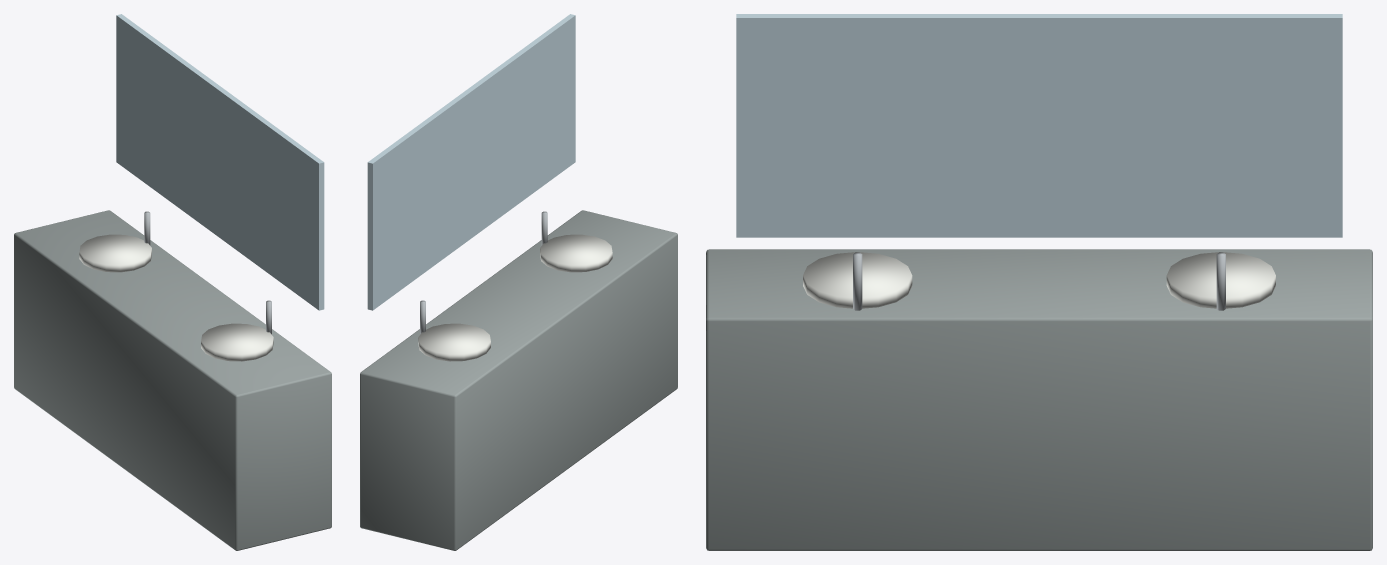
File: sink_counter.gltf
3 views of the same model, side by side, from view 1: azimuth 30°, elevation 25°; view 2: azimuth 150°, elevation 25°; view 3: azimuth 270°, elevation 25° (orthographic). The views are drawn at different scales.
Parts seen in each view (by area): view 1: sink_counter_mesh; view 2: sink_counter_mesh; view 3: sink_counter_mesh.
Part boxes in pixels (x1,y1,x2,y2): sink_counter_mesh: (14, 14, 331, 550); sink_counter_mesh: (360, 14, 677, 550); sink_counter_mesh: (706, 14, 1372, 550).
Size of the model in its own units: 0.56 by 1.95 by 2.2.
